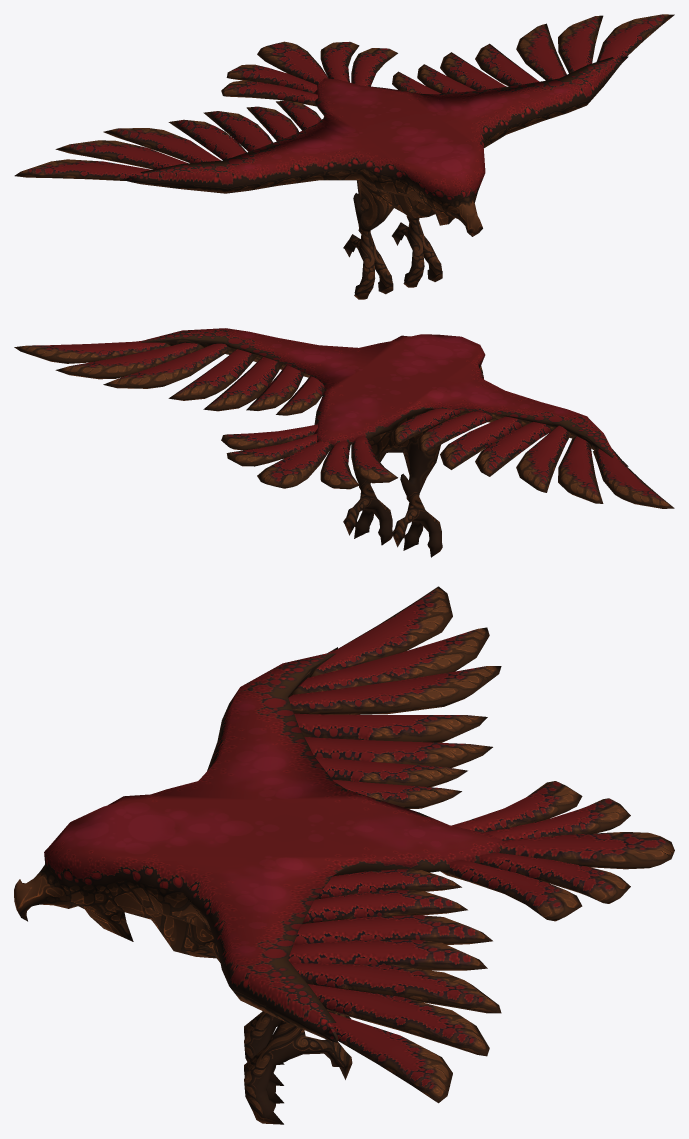
Rendered from Red_Bird_Island.FBX.
3 views of the same model, one above another, from view 1: azimuth 30°, elevation 25°; view 2: azimuth 150°, elevation 25°; view 3: azimuth 270°, elevation 25° (orthographic). The views are drawn at different scales.
Visible parts, largest first — view 1: Red_Bird_Island; view 2: Red_Bird_Island; view 3: Red_Bird_Island.
Part boxes in pixels (x1,y1,x2,y2): Red_Bird_Island: [14, 14, 674, 299]; Red_Bird_Island: [14, 328, 674, 557]; Red_Bird_Island: [14, 586, 674, 1124].
Bounding box in the file's own units: 17238 × 4140 × 9312.
